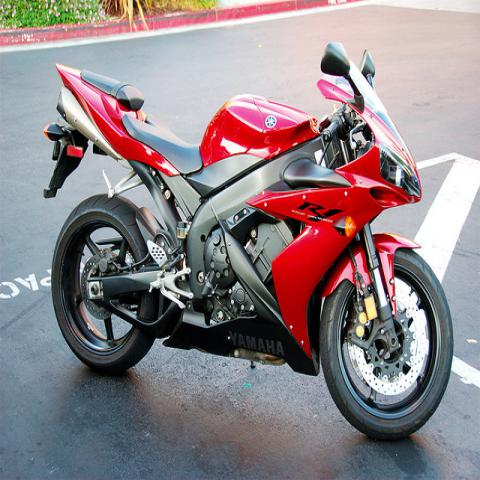motorcycle: (45, 44, 460, 444)
